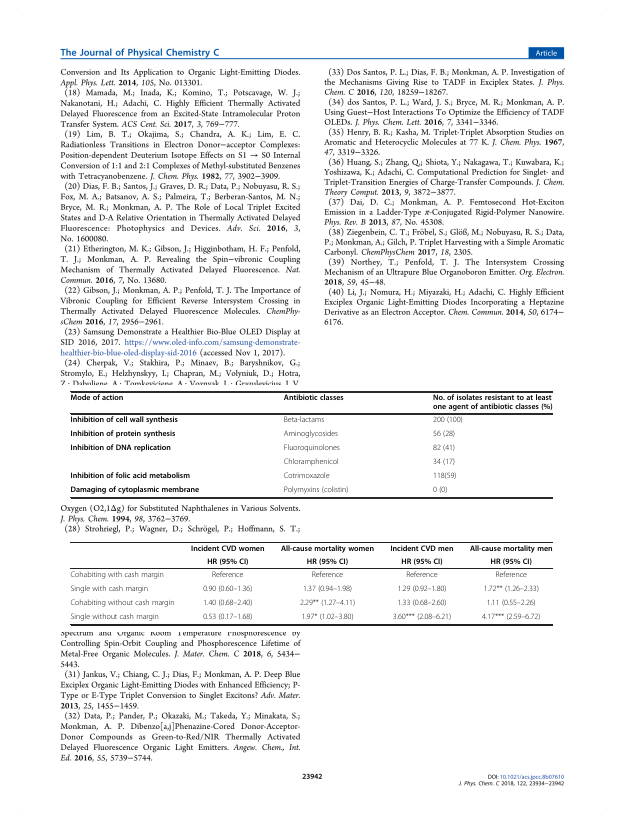borderless: (69, 390, 552, 497), (69, 540, 552, 624)
cell: (432, 394, 553, 412), (70, 486, 200, 496), (70, 472, 191, 482), (70, 416, 179, 426), (70, 430, 176, 440), (69, 598, 175, 608), (70, 444, 172, 454), (69, 570, 165, 580), (70, 612, 160, 622), (280, 544, 375, 553), (69, 584, 149, 594), (469, 544, 553, 553), (190, 544, 265, 553), (283, 486, 349, 496), (392, 612, 452, 622), (481, 612, 541, 622), (389, 544, 454, 553), (283, 444, 341, 454), (483, 584, 540, 594), (299, 598, 356, 608), (283, 430, 339, 440), (283, 458, 339, 468), (283, 394, 345, 403), (300, 612, 354, 622), (202, 584, 253, 594), (302, 584, 353, 594), (396, 584, 447, 594), (202, 598, 253, 608), (396, 598, 447, 608), (486, 598, 537, 608), (202, 612, 253, 622), (70, 394, 124, 403), (283, 472, 330, 482), (206, 557, 249, 567), (306, 557, 349, 567), (400, 557, 443, 567), (490, 557, 533, 567), (283, 416, 325, 426), (405, 570, 439, 580), (494, 570, 528, 580), (211, 570, 244, 580), (311, 570, 344, 580), (432, 416, 463, 426), (432, 472, 457, 482), (432, 430, 456, 440), (432, 444, 456, 454), (432, 458, 456, 468), (432, 486, 448, 496)
